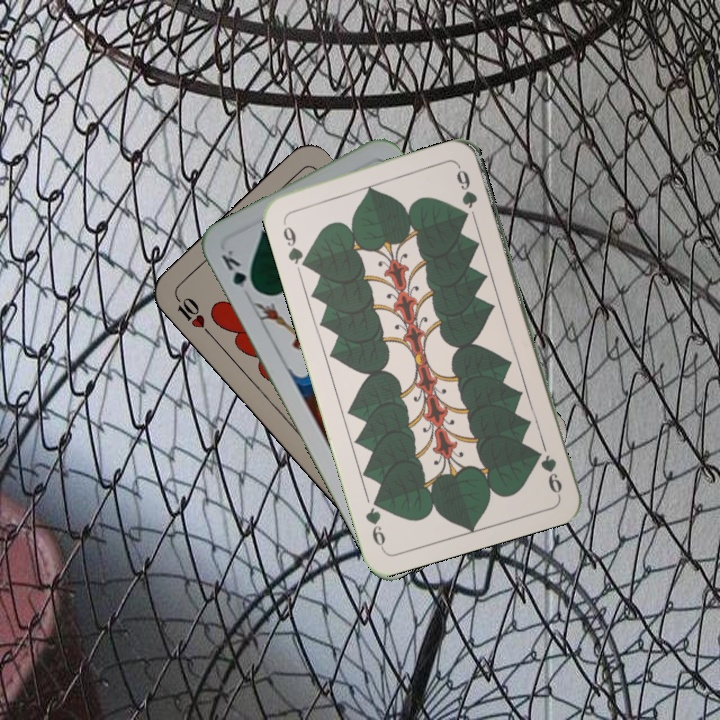G9: (532, 446, 565, 499), (278, 222, 311, 271)
GK: (217, 245, 260, 295)
H10: (170, 288, 214, 338)
